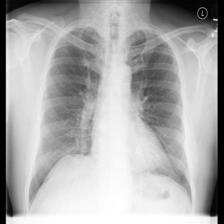normal: (24, 23, 192, 209)
